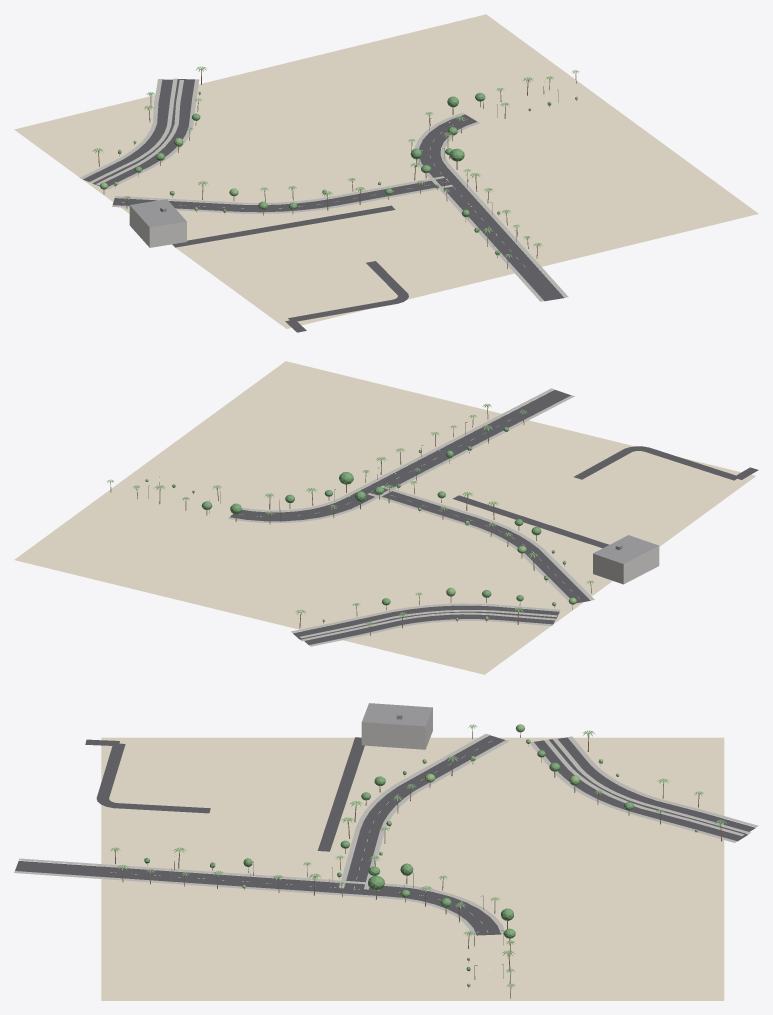
Rendered from tile_5_-6.glb.
3 views of the same model, one above another, from view 1: azimuth 30°, elevation 25°; view 2: azimuth 150°, elevation 25°; view 3: azimuth 270°, elevation 25° (orthographic). The views are drawn at different scales.
Visible parts, largest first — view 1: nature_ground, roads_asphalt, roads_sidewalk, buildings_concrete_light, nature_foliage_a, buildings_roof, nature_palm_leaf, nature_trunk; view 2: nature_ground, roads_asphalt, roads_sidewalk, buildings_concrete_light, nature_foliage_a, buildings_roof, nature_palm_leaf, nature_trunk; view 3: nature_ground, roads_asphalt, roads_sidewalk, buildings_concrete_light, nature_foliage_a, buildings_roof, nature_palm_leaf, nature_trunk.
Part boxes in pixels (x1,y1,x2,y2): nature_ground: (14, 14, 758, 328); roads_asphalt: (83, 79, 564, 332); roads_sidewalk: (80, 78, 568, 301); buildings_concrete_light: (129, 205, 186, 247); nature_foliage_a: (134, 92, 551, 255); buildings_roof: (130, 199, 186, 227); nature_palm_leaf: (92, 66, 579, 258); nature_trunk: (98, 69, 576, 268); nature_ground: (14, 361, 755, 674); roads_asphalt: (230, 390, 758, 644); roads_sidewalk: (228, 388, 594, 646); buildings_concrete_light: (593, 546, 659, 584); nature_foliage_a: (172, 427, 554, 605); buildings_roof: (593, 535, 658, 563); nature_palm_leaf: (107, 403, 594, 625); nature_trunk: (110, 406, 591, 635); nature_ground: (101, 737, 724, 1000); roads_asphalt: (15, 735, 755, 935); roads_sidewalk: (14, 733, 758, 935); buildings_concrete_light: (361, 708, 432, 749); nature_foliage_a: (144, 750, 633, 971); buildings_roof: (362, 703, 432, 726); nature_palm_leaf: (110, 724, 727, 987); nature_trunk: (115, 726, 722, 998).
Bounding box in the file's own units: 260 × 11.98 × 299.
